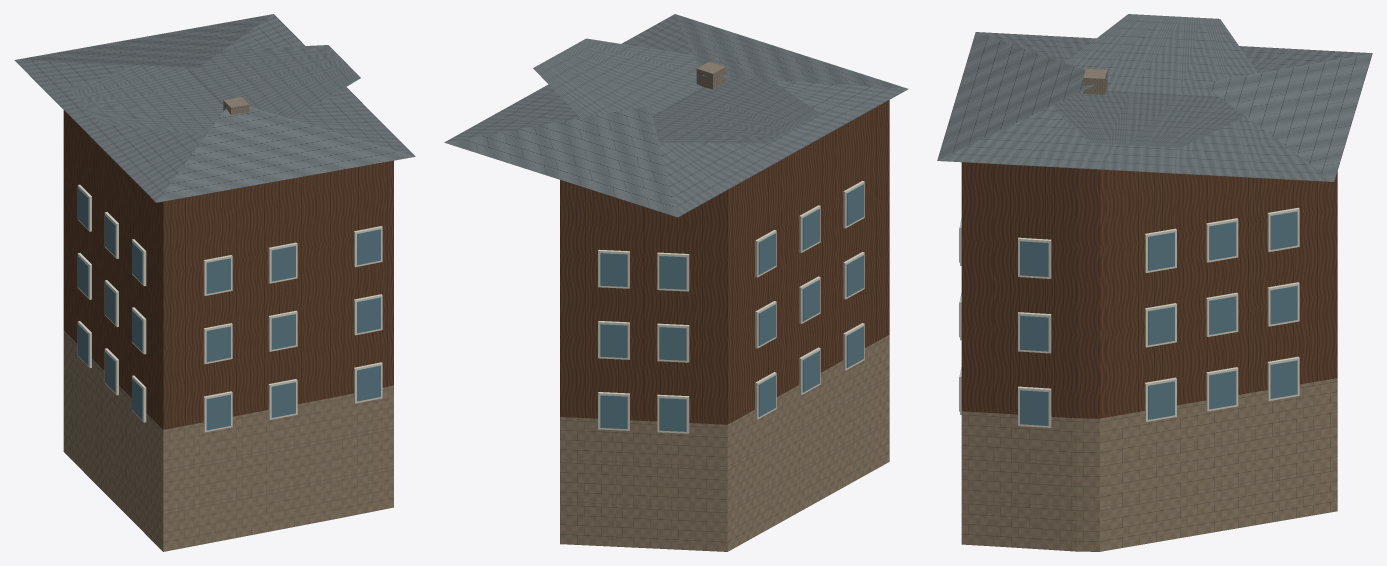
Rendered from core_0087.gltf.
3 views of the same model, side by side, from view 1: azimuth 30°, elevation 25°; view 2: azimuth 150°, elevation 25°; view 3: azimuth 270°, elevation 25° (orthographic). The views are drawn at different scales.
Parts seen in each view (by area): view 1: core_0087; view 2: core_0087; view 3: core_0087.
Part boxes in pixels (left/top/right/bottom): core_0087: left=14, top=14, right=415, bottom=551; core_0087: left=444, top=14, right=908, bottom=551; core_0087: left=937, top=14, right=1372, bottom=551.
Size of the model in its own units: 12.33 by 16.05 by 15.11.
6 materials, 6 textured.
